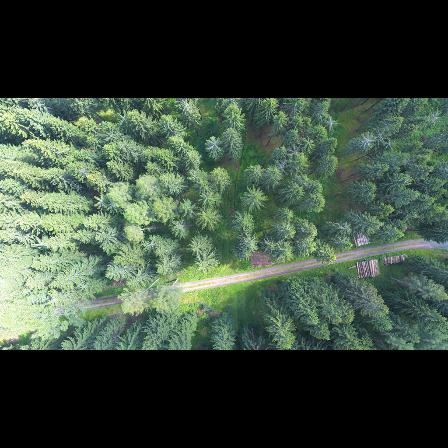Sick: (204, 136, 223, 155), (92, 192, 111, 210), (424, 108, 442, 126), (356, 133, 376, 149), (323, 117, 339, 130), (275, 157, 287, 174), (288, 145, 299, 158), (304, 137, 314, 148)
